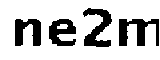2: (78, 6, 112, 51)
e: (47, 18, 77, 50)
m: (116, 16, 160, 49)
n: (12, 17, 43, 52)
